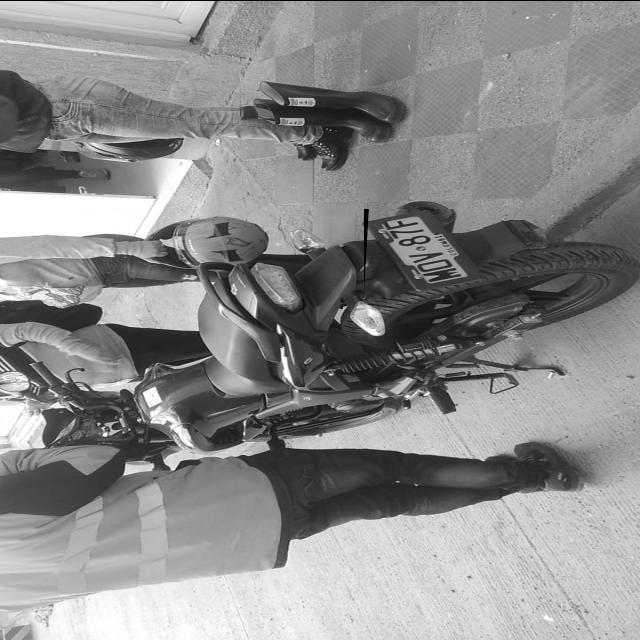plate: (368, 208, 483, 289)
